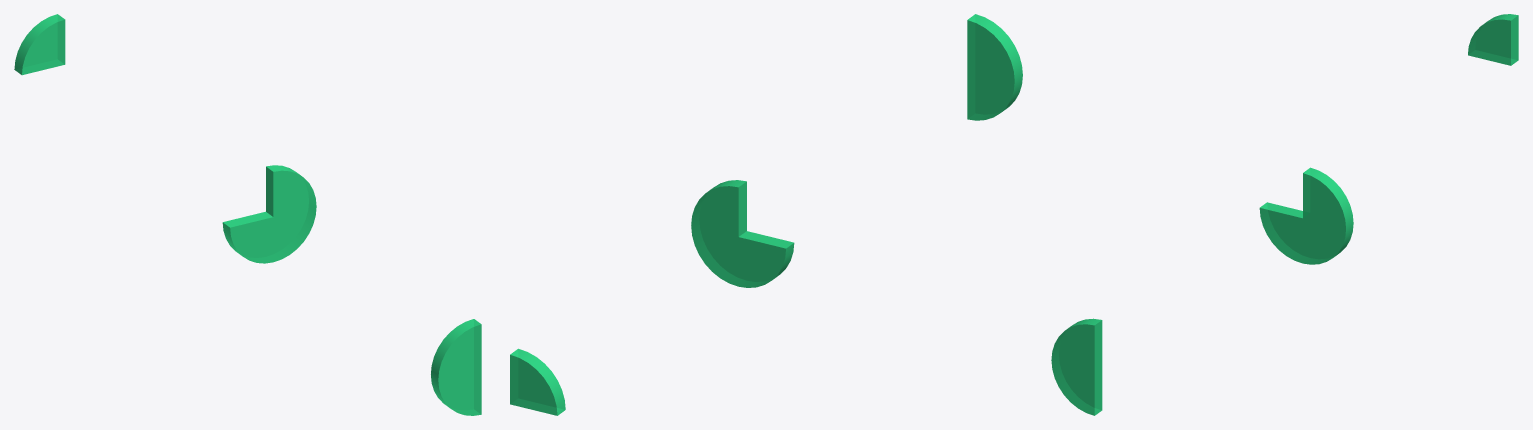
Rendered from Static Wall.fbx.
The picture shows the model from 3 angles, left to right: view 1: azimuth 30°, elevation 25°; view 2: azimuth 150°, elevation 25°; view 3: azimuth 330°, elevation 25°; orthographic projection. The views are drawn at different scales.
Parts seen in each view (by area): view 1: Cylinder.003, Cylinder.002, Cylinder.004; view 2: Cylinder.003, Cylinder.002, Cylinder.004; view 3: Cylinder.003, Cylinder.002, Cylinder.004.
Part boxes in pixels (left/top/right/bottom): Cylinder.003: left=222, top=165, right=316, bottom=263; Cylinder.002: left=431, top=319, right=481, bottom=415; Cylinder.004: left=14, top=14, right=65, bottom=75; Cylinder.003: left=691, top=180, right=794, bottom=287; Cylinder.002: left=967, top=14, right=1022, bottom=120; Cylinder.004: left=510, top=348, right=565, bottom=415; Cylinder.003: left=1259, top=167, right=1353, bottom=264; Cylinder.002: left=1051, top=318, right=1102, bottom=415; Cylinder.004: left=1468, top=14, right=1518, bottom=65.
Size of the model in its own units: 1200 by 1200 by 10180.
